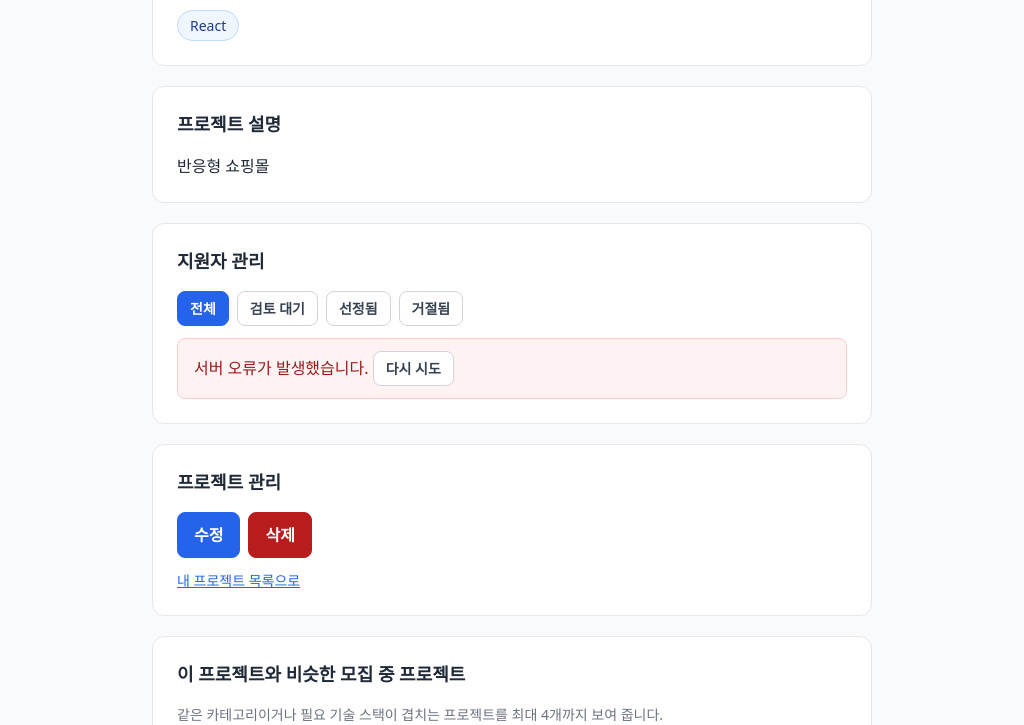
Test case: applicant management on the project detail (owner) › shows loading, empty and error states
(page scrolled)
expect the text "서버 오류가 발생했습니다. 다시 시도" is shown: met, box [177,338,847,399]
Click the button "다시 시도". click: x=413, y=368
box: [373,351,454,386]
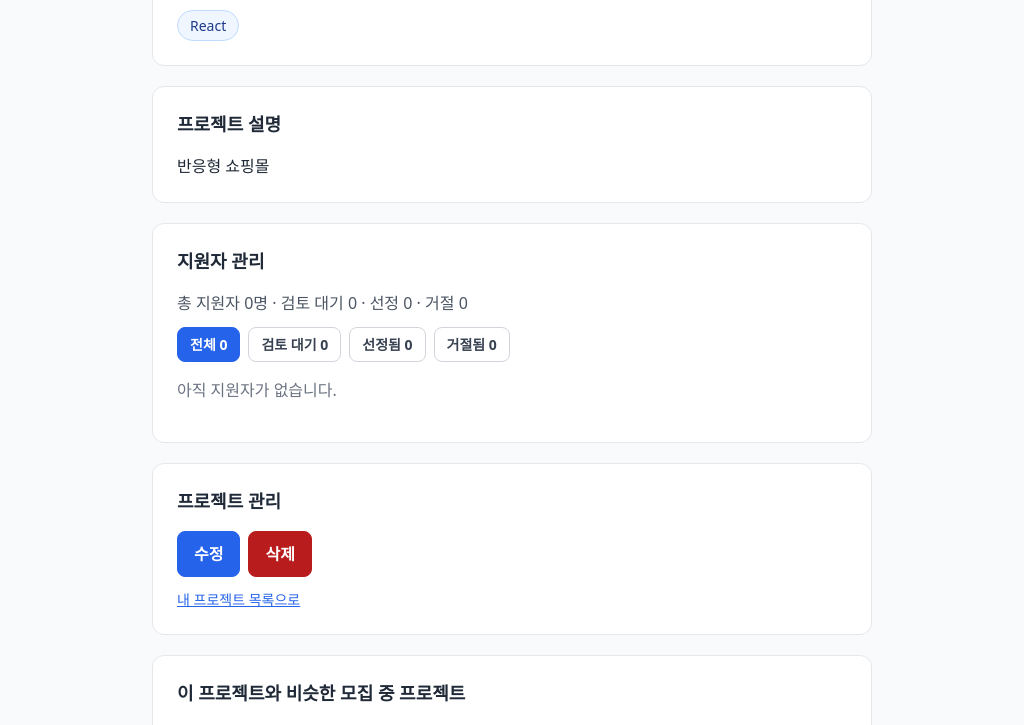
expect the text "아직 지원자가 없습니다." is shown: met, box [177,379,337,401]
